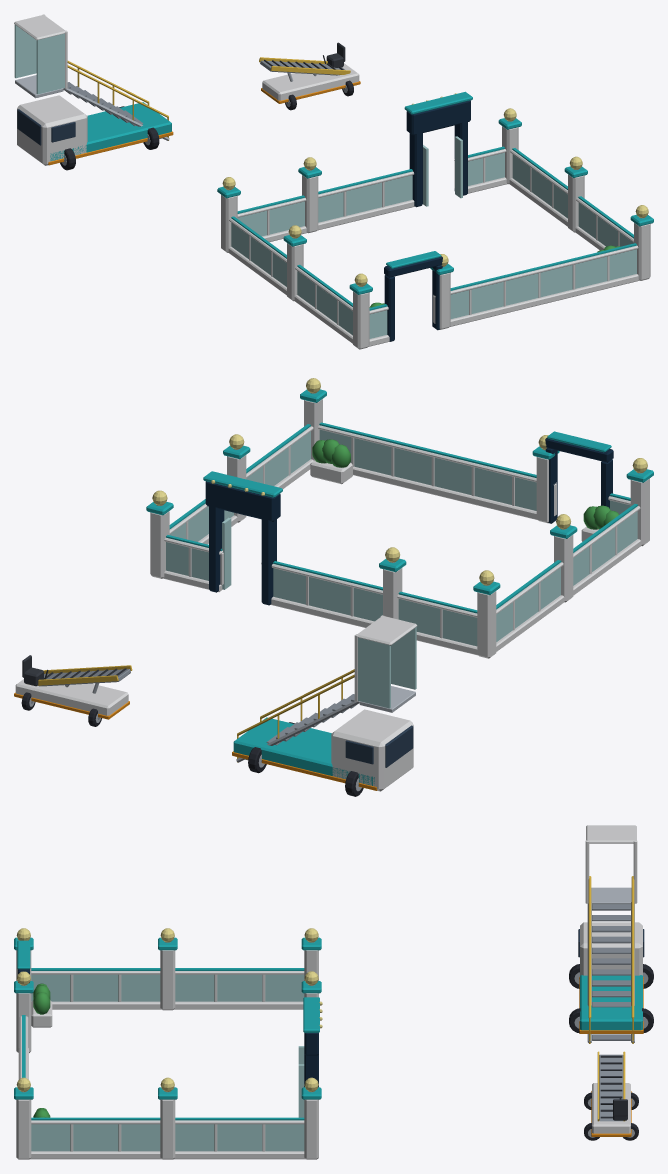
Rendered from skyport-pier.glb.
The picture shows the model from 3 angles, top to bottom: view 1: azimuth 30°, elevation 25°; view 2: azimuth 150°, elevation 25°; view 3: azimuth 270°, elevation 25°; orthographic projection. The views are drawn at different scales.
Visible parts, largest first — view 1: sp_pier_mesh, sp_stairtruck_mesh, sp_beltloader_mesh; view 2: sp_pier_mesh, sp_stairtruck_mesh, sp_beltloader_mesh; view 3: sp_pier_mesh, sp_stairtruck_mesh, sp_beltloader_mesh, sp_beltloader_belt_mesh.
Part boxes in pixels (x1,y1,x2,y2): sp_pier_mesh: (217, 91, 653, 349); sp_stairtruck_mesh: (14, 14, 173, 170); sp_beltloader_mesh: (259, 42, 360, 110); sp_pier_mesh: (146, 378, 653, 658); sp_stairtruck_mesh: (232, 615, 417, 796); sp_beltloader_mesh: (14, 655, 132, 726); sp_pier_mesh: (14, 928, 322, 1159); sp_stairtruck_mesh: (569, 825, 653, 1043); sp_beltloader_mesh: (584, 1051, 638, 1140); sp_beltloader_belt_mesh: (600, 1055, 622, 1118).
Size of the model in its own units: 14.93 by 5.45 by 21.35.
